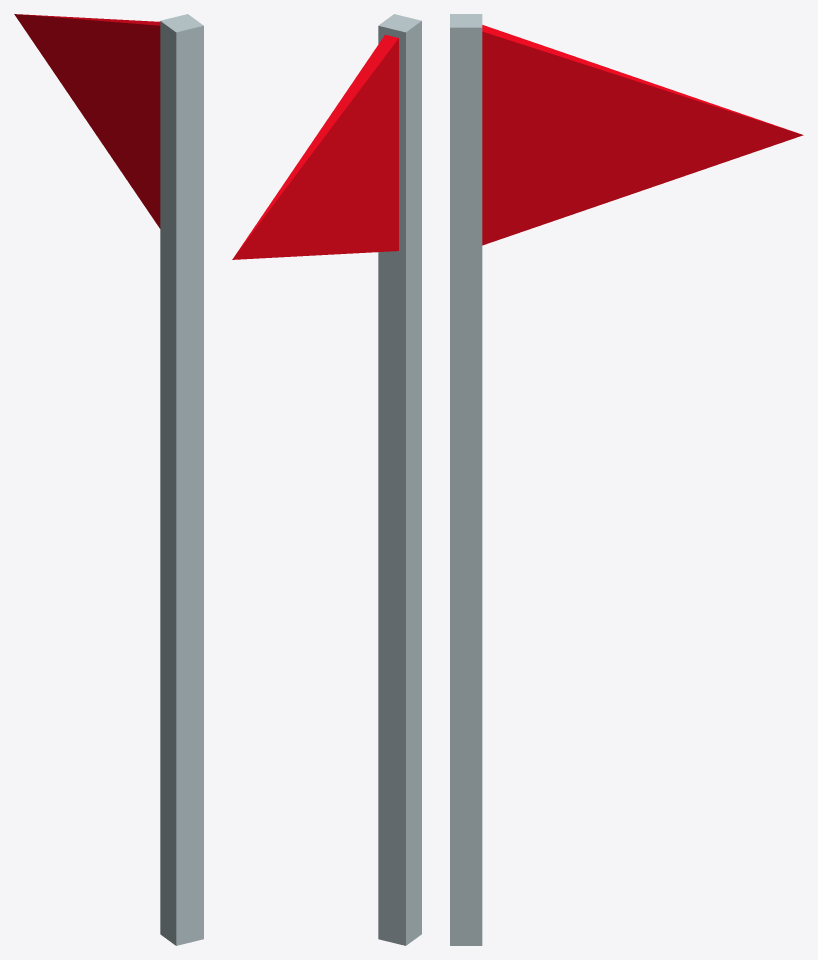
The model's file is redFlag.fbx.
3 views of the same model, side by side, from view 1: azimuth 30°, elevation 25°; view 2: azimuth 150°, elevation 25°; view 3: azimuth 270°, elevation 25° (orthographic).
Parts seen in each view (by area): view 1: flag_red.002, flag_red.001; view 2: flag_red.002, flag_red.001; view 3: flag_red.001, flag_red.002.
Boxes of the visible parts, x1,y1,x2,y2 form: flag_red.002: (160, 14, 203, 945); flag_red.001: (14, 14, 160, 228); flag_red.002: (378, 14, 421, 945); flag_red.001: (232, 34, 398, 259); flag_red.001: (482, 25, 803, 245); flag_red.002: (450, 14, 482, 945).
Size of the model in its own units: 3.33 by 105 by 36.66.
